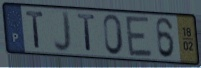0: (102, 13, 125, 57)
6: (154, 17, 176, 61)
E: (124, 15, 155, 60)
J: (52, 9, 73, 55)
T: (76, 12, 97, 54), (25, 10, 45, 50)
